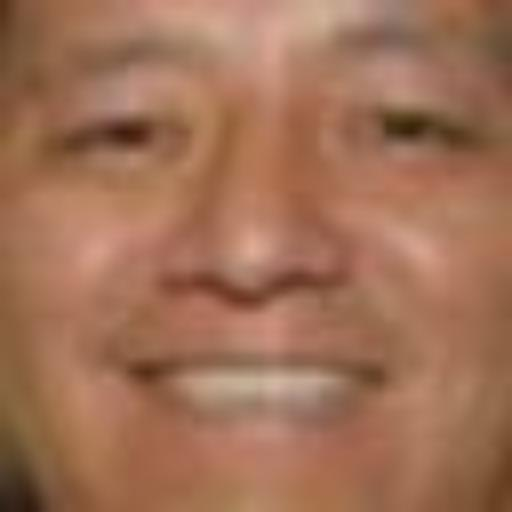left_eye: (341, 91, 470, 166)
left_lip_corner: (337, 352, 393, 397)
right_eye: (62, 105, 195, 160)
right_lip_corner: (129, 350, 186, 391)
